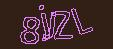8: (20, 17, 39, 43)
J: (43, 12, 55, 38)
L: (71, 8, 92, 34)
Z: (52, 11, 72, 39)
j: (39, 5, 49, 40)
